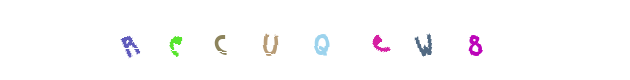8: (394, 0, 474, 80)
C: (214, 0, 294, 80)
E: (135, 0, 215, 80), (278, 0, 358, 80)
Q: (275, 0, 355, 80)
R: (89, 0, 169, 80)
U: (246, 0, 326, 80)
W: (385, 0, 465, 80)
